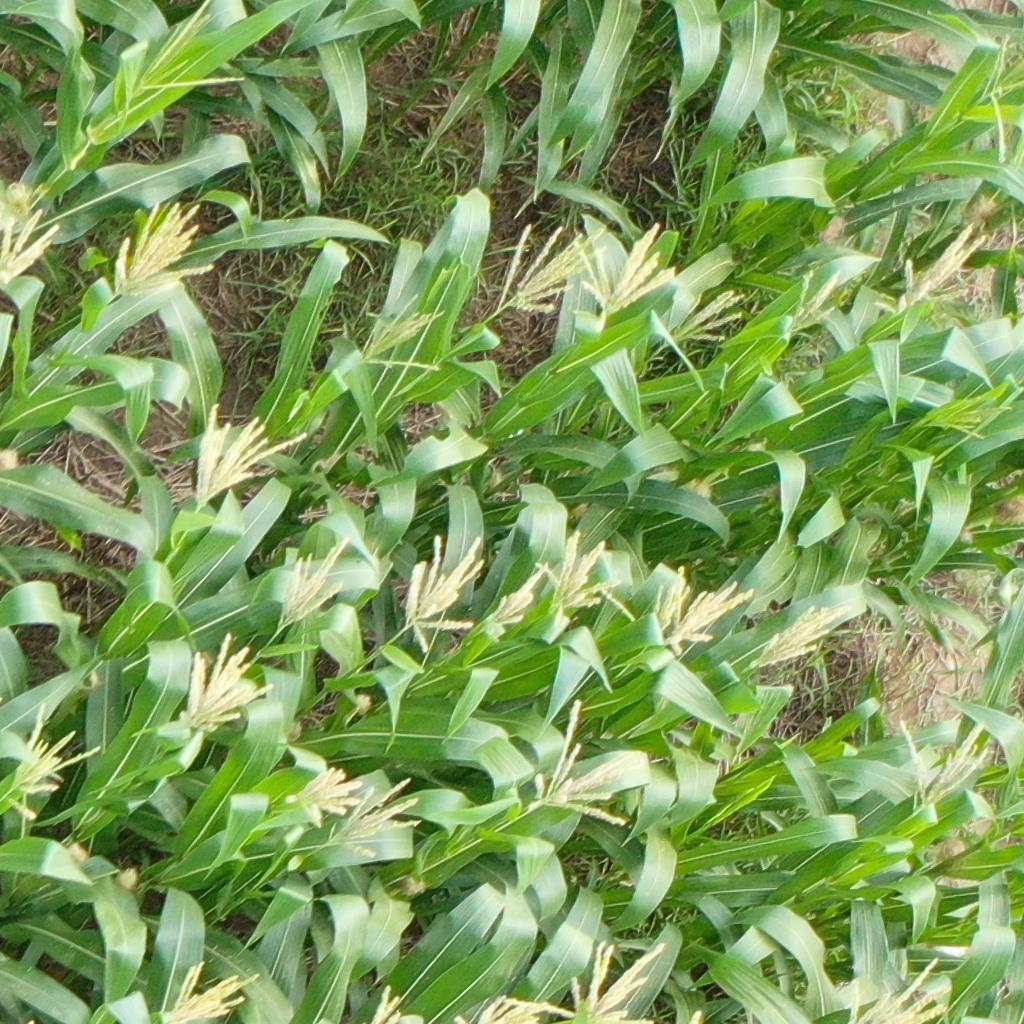Tassel: (526, 698, 640, 830), (508, 940, 670, 1024), (192, 400, 312, 513), (1, 703, 101, 822), (130, 1, 249, 96), (491, 223, 609, 318), (402, 531, 489, 657), (110, 200, 217, 298), (572, 221, 679, 316), (180, 631, 277, 735), (896, 713, 995, 813), (880, 225, 989, 315), (327, 775, 426, 868), (593, 563, 690, 647), (747, 603, 854, 678), (360, 291, 447, 380), (273, 535, 352, 632), (668, 561, 756, 648), (842, 954, 948, 1024), (534, 529, 618, 613), (154, 960, 261, 1024), (482, 559, 551, 648), (977, 27, 1020, 164), (286, 765, 364, 833), (921, 383, 1012, 440), (1, 206, 62, 289), (666, 286, 747, 348), (787, 267, 847, 334), (450, 992, 552, 1024), (358, 985, 408, 1024)
